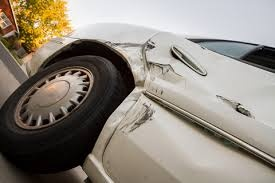Dent: (115, 39, 182, 104)
Scratch: (112, 102, 156, 134)
